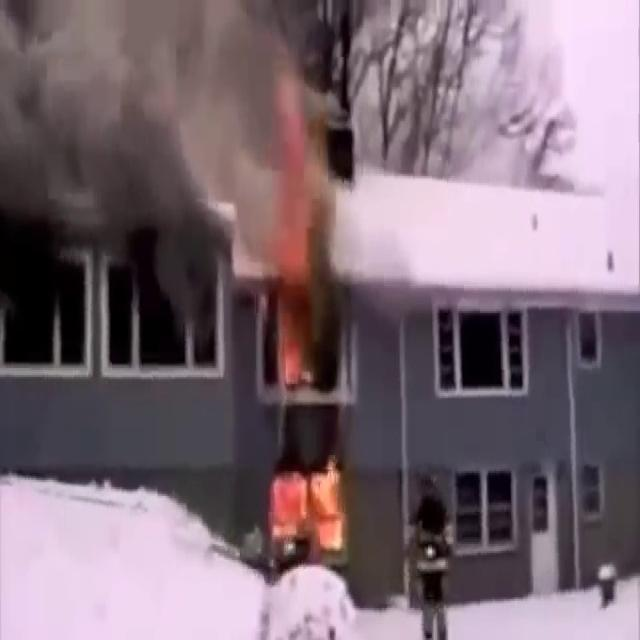Fire: (263, 441, 356, 571)
Smoke: (1, 0, 323, 313)
